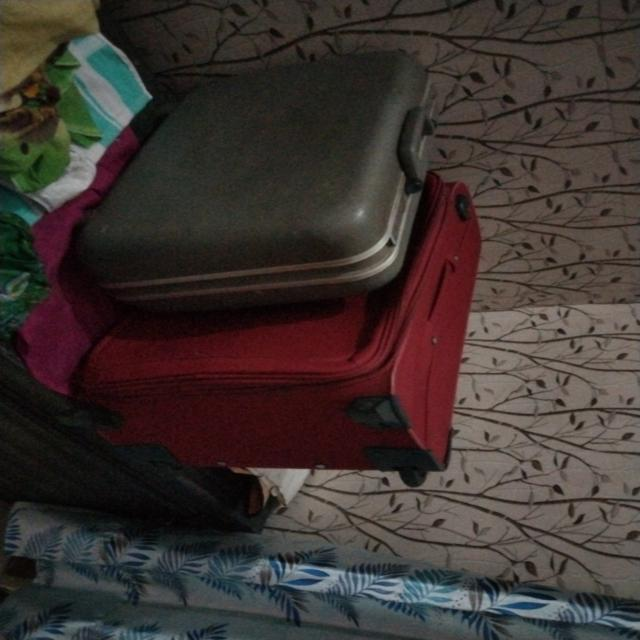suitcaserotation: (71, 165, 488, 490), (69, 44, 442, 317)
